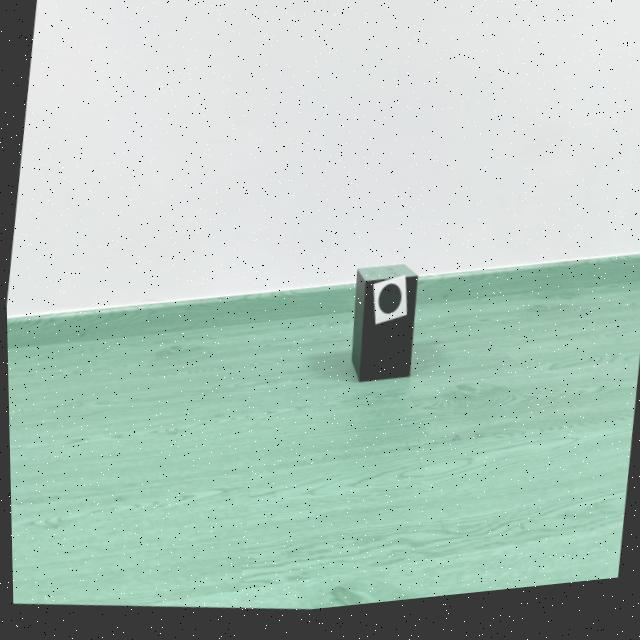CIRCLE: (376, 291, 400, 322)
